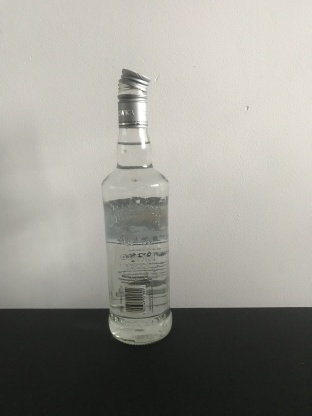nakretka: (116, 64, 151, 129)
